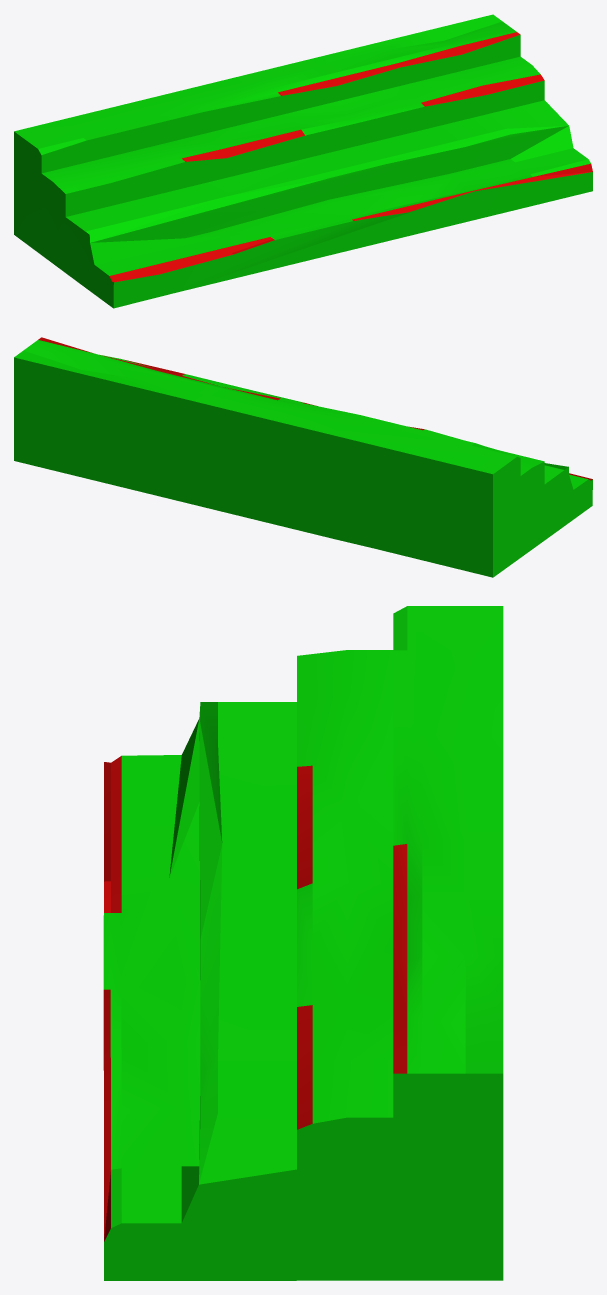
File: Stairs02_Nice.fbx
3 renders of one model, top to bottom at view 1: azimuth 30°, elevation 25°; view 2: azimuth 150°, elevation 25°; view 3: azimuth 270°, elevation 25°, orthographic. The views are drawn at different scales.
Parts seen in each view (by area): view 1: Stairs005_Test2; view 2: Stairs005_Test2; view 3: Stairs005_Test2.
Part boxes in pixels (left/top/right/bottom): Stairs005_Test2: left=14, top=14, right=592, bottom=308; Stairs005_Test2: left=14, top=337, right=592, bottom=577; Stairs005_Test2: left=103, top=606, right=503, bottom=1280.
Bounding box in the file's own units: 200 × 41.98 × 72.29.
